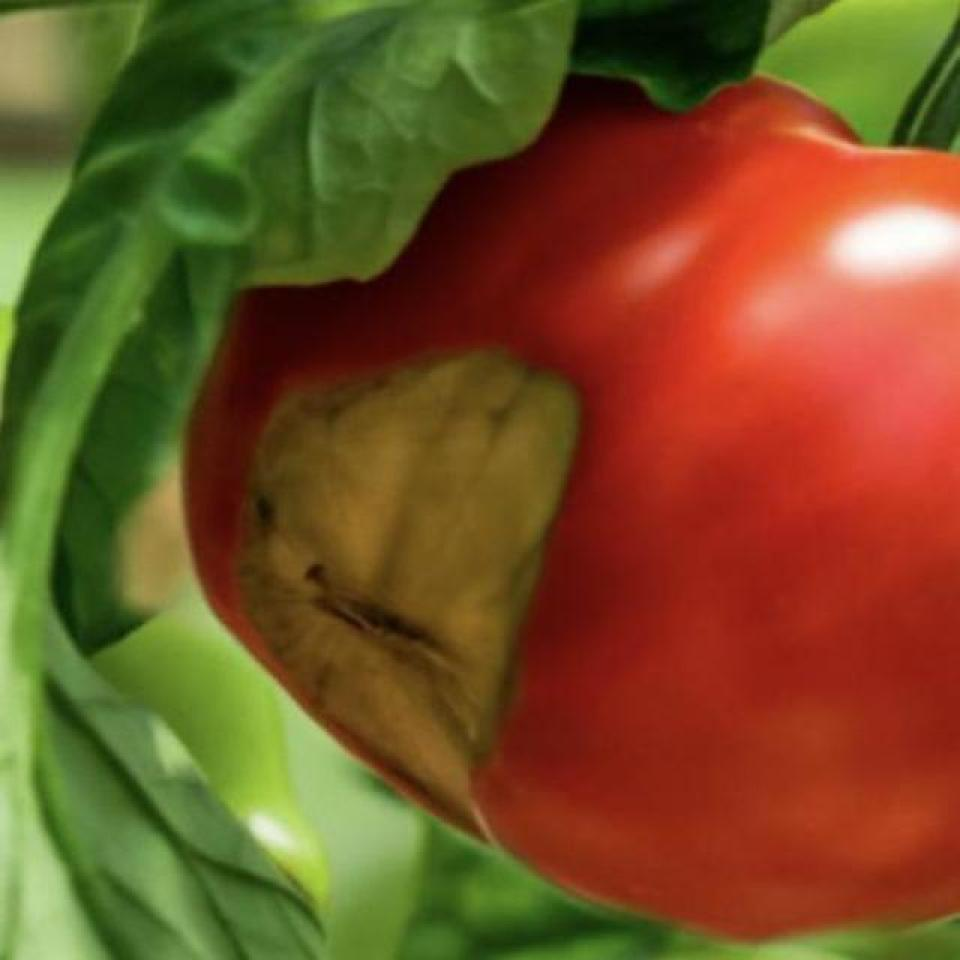Blossom_end_rot: (220, 338, 587, 868)
